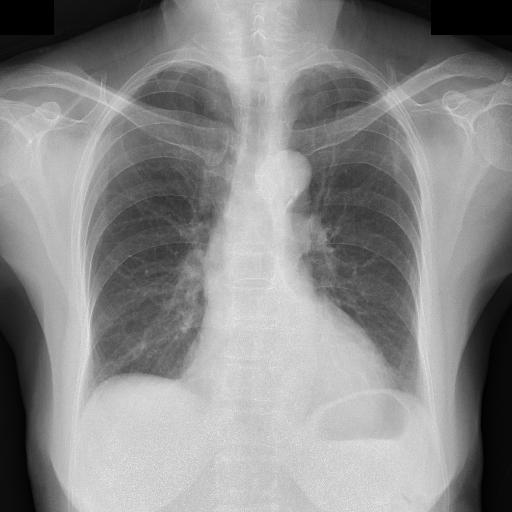Aortic enlargement: (232, 120, 285, 182)
Cardiomegaly: (72, 300, 288, 378)
